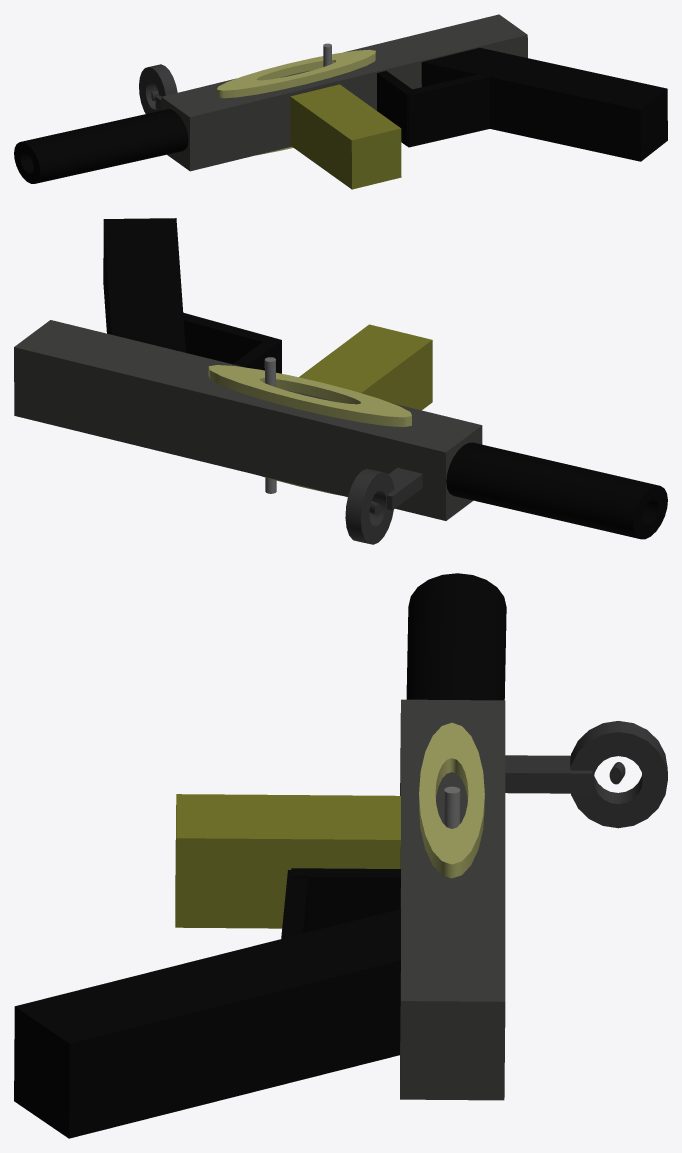
Rendered from tec-9_animation.fbx.
The picture shows the model from 3 angles, top to bottom: view 1: azimuth 30°, elevation 25°; view 2: azimuth 150°, elevation 25°; view 3: azimuth 270°, elevation 25°; orthographic projection. The views are drawn at different scales.
Visible parts, largest first — view 1: pCube7; view 2: pCube7; view 3: pCube7.
Boxes of the visible parts, bbox=[...] form: pCube7: bbox=[14, 14, 667, 189]; pCube7: bbox=[14, 218, 667, 544]; pCube7: bbox=[14, 573, 667, 1138].
Bounding box in the file's own units: 10.81 × 2 × 6.26.
